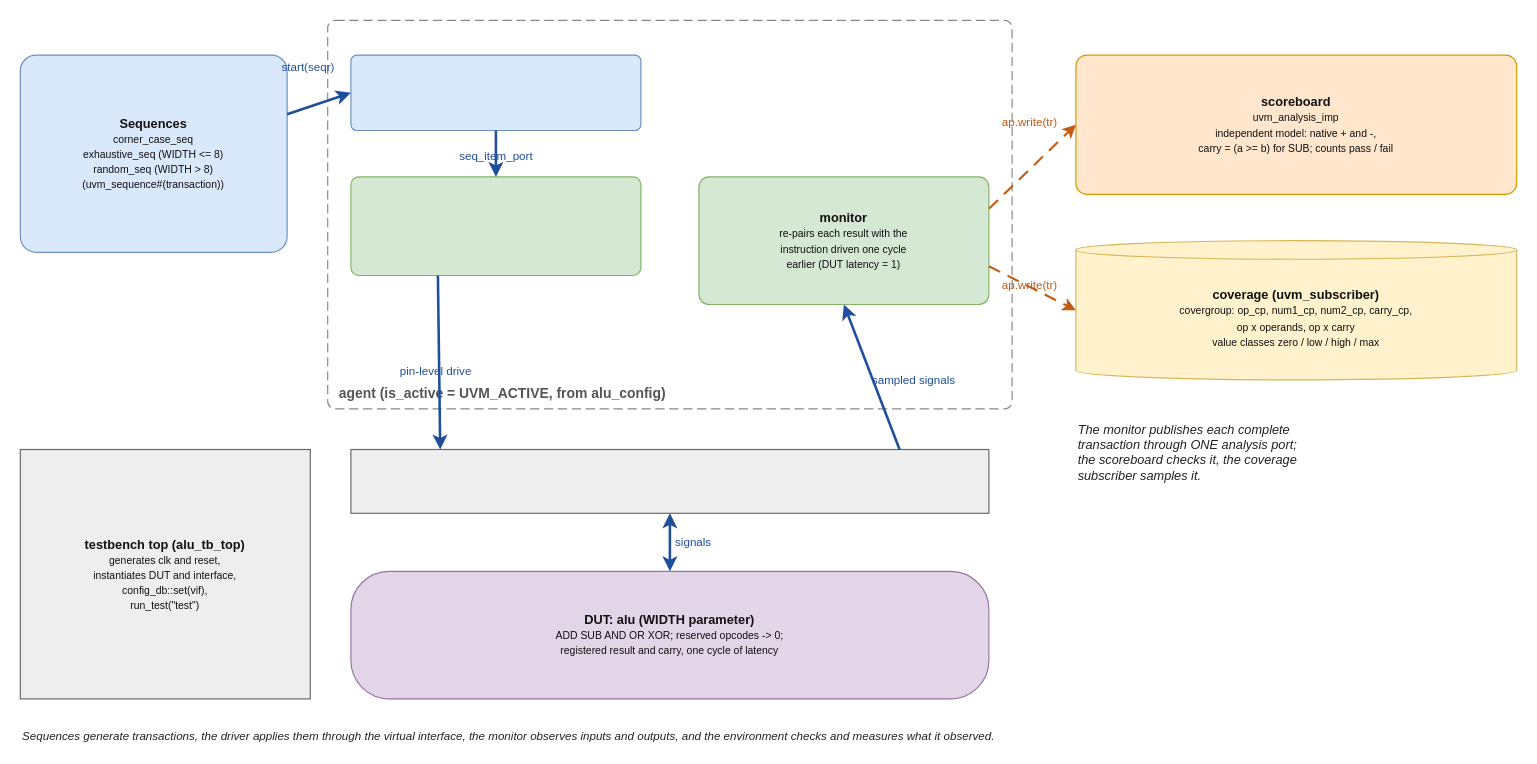
The diagram is 1537 pixels wide and 764 high, and some of its shapes have lost their labels. The centre of each missing label's shape, as x and y in pixels:
"alu_if (virtual interface) clk, rst_n, opcode, num1, num2, result, carry_out" goes at point (669, 480).
"driver get_next_item, drive opcode, num1, num2 on the vif, item_done" goes at point (495, 226).
"sequencer uvm_sequencer#(transaction)" goes at point (495, 92).
